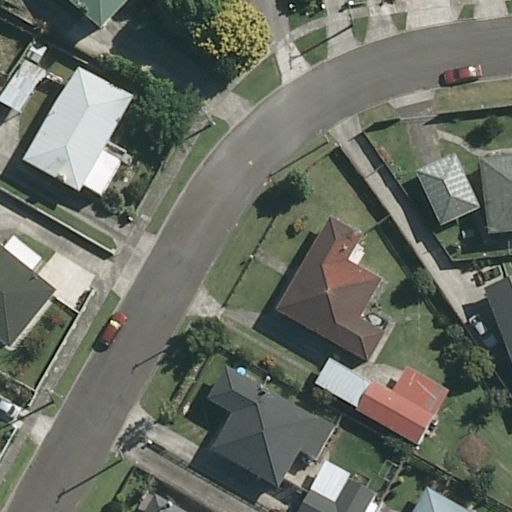DT: (198, 105, 218, 131), (43, 384, 62, 411), (110, 439, 129, 466), (178, 318, 197, 345), (341, 4, 361, 29), (317, 128, 335, 147)
